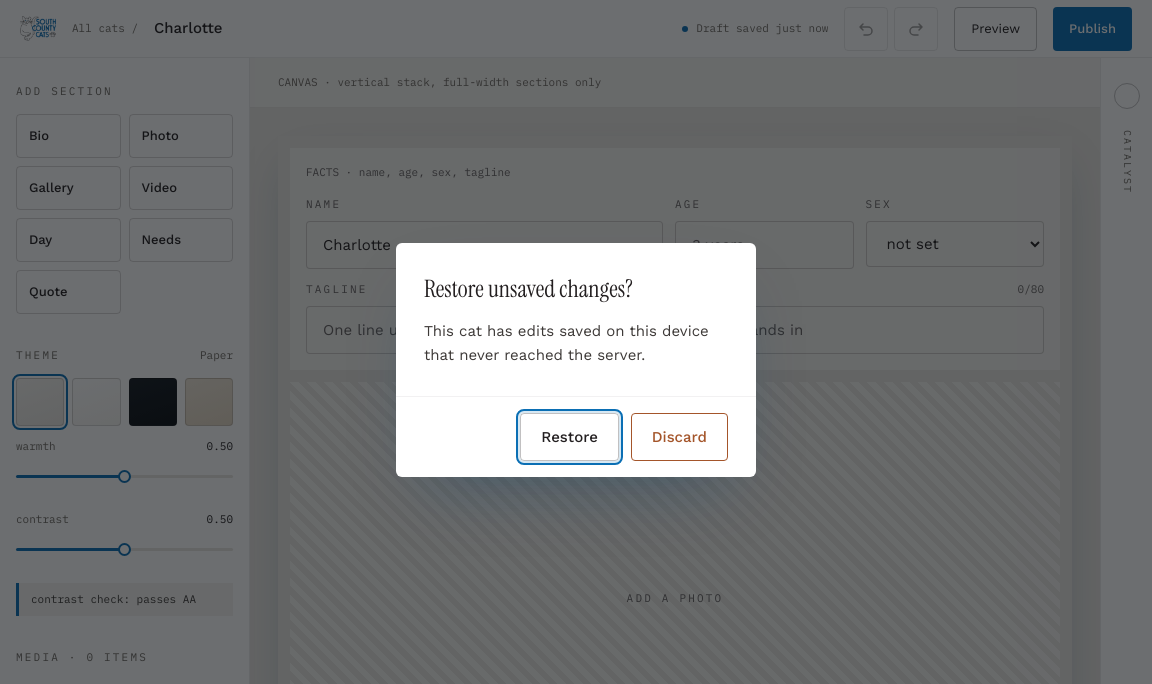
Builder: the restore prompt › Discard keeps the server's document and clears the mirror
Step 1. Click the button "Discard" → x=679, y=437, box [631,413,728,461]
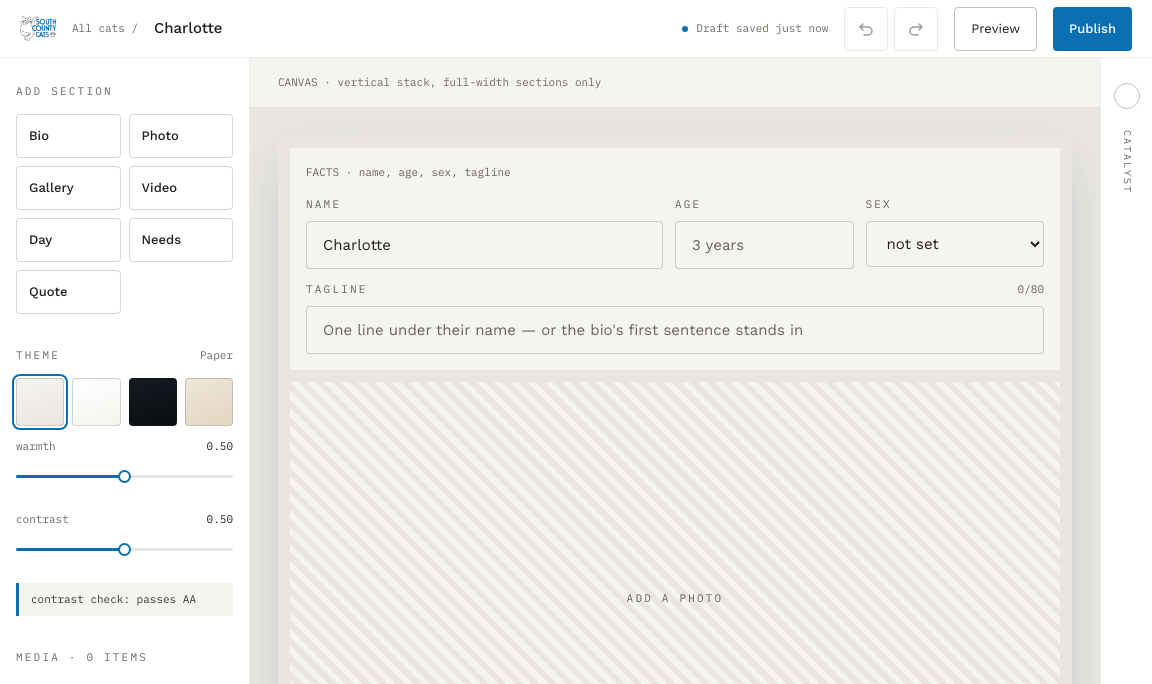
Result: the dialog is gone
